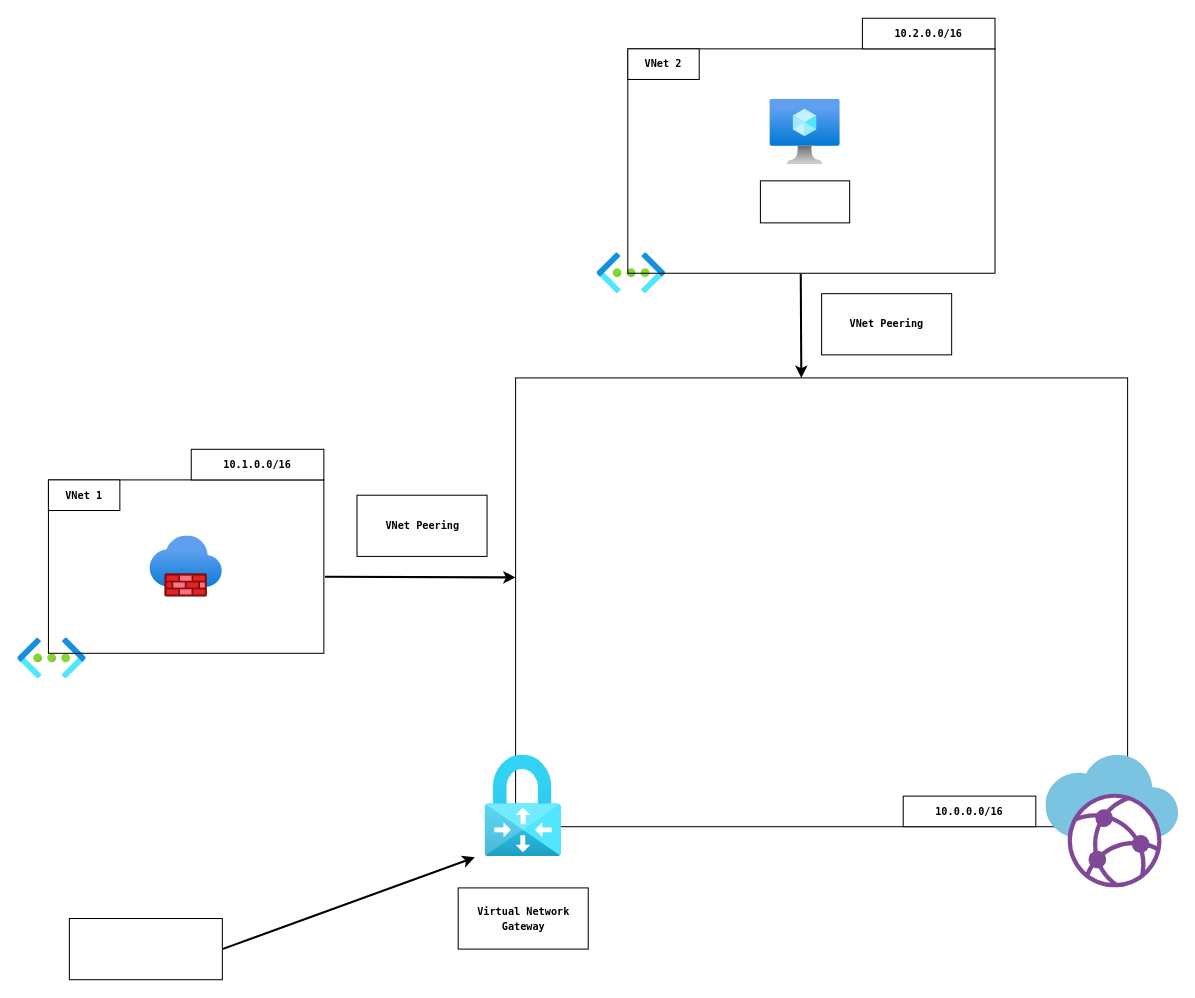
Image size: 1195x998. Some labels were removed from this diagram. The shapes that lost their labels are listed below. From the top down, each one's box as (x1, y1, x2, y2) in pixels, then its label:
(759, 180, 850, 223): Web Server
(68, 917, 222, 980): P2S, S2S Connections
